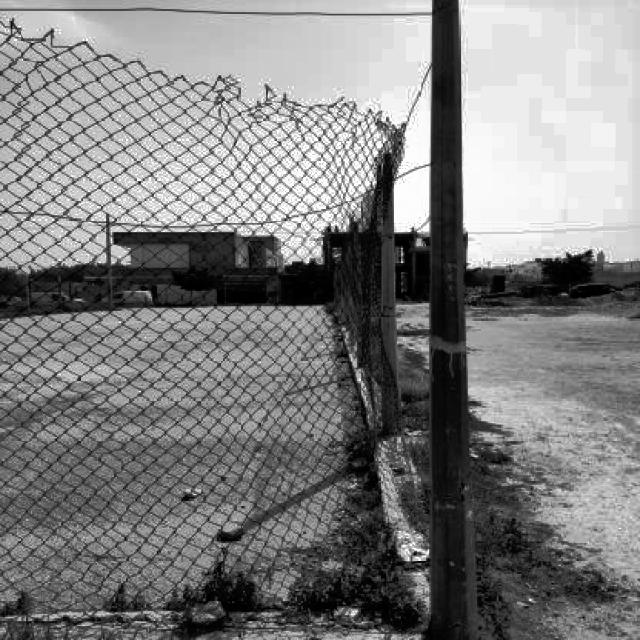anomaly-fence: (299, 136, 478, 632), (1, 1, 466, 125)
